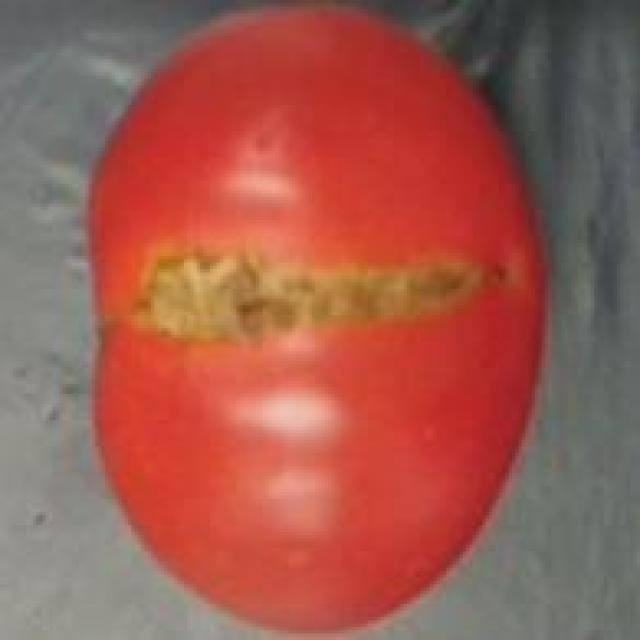overripe tomato: (79, 0, 561, 640)
